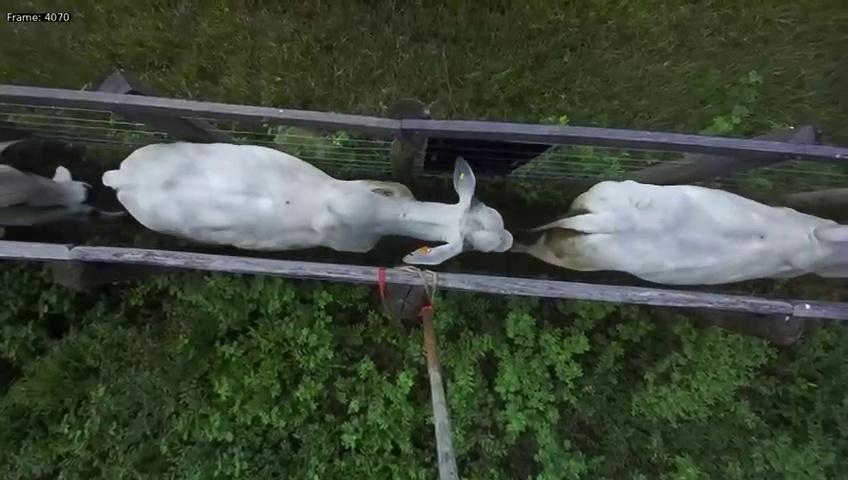cattle: (95, 137, 514, 265), (526, 169, 848, 293)
